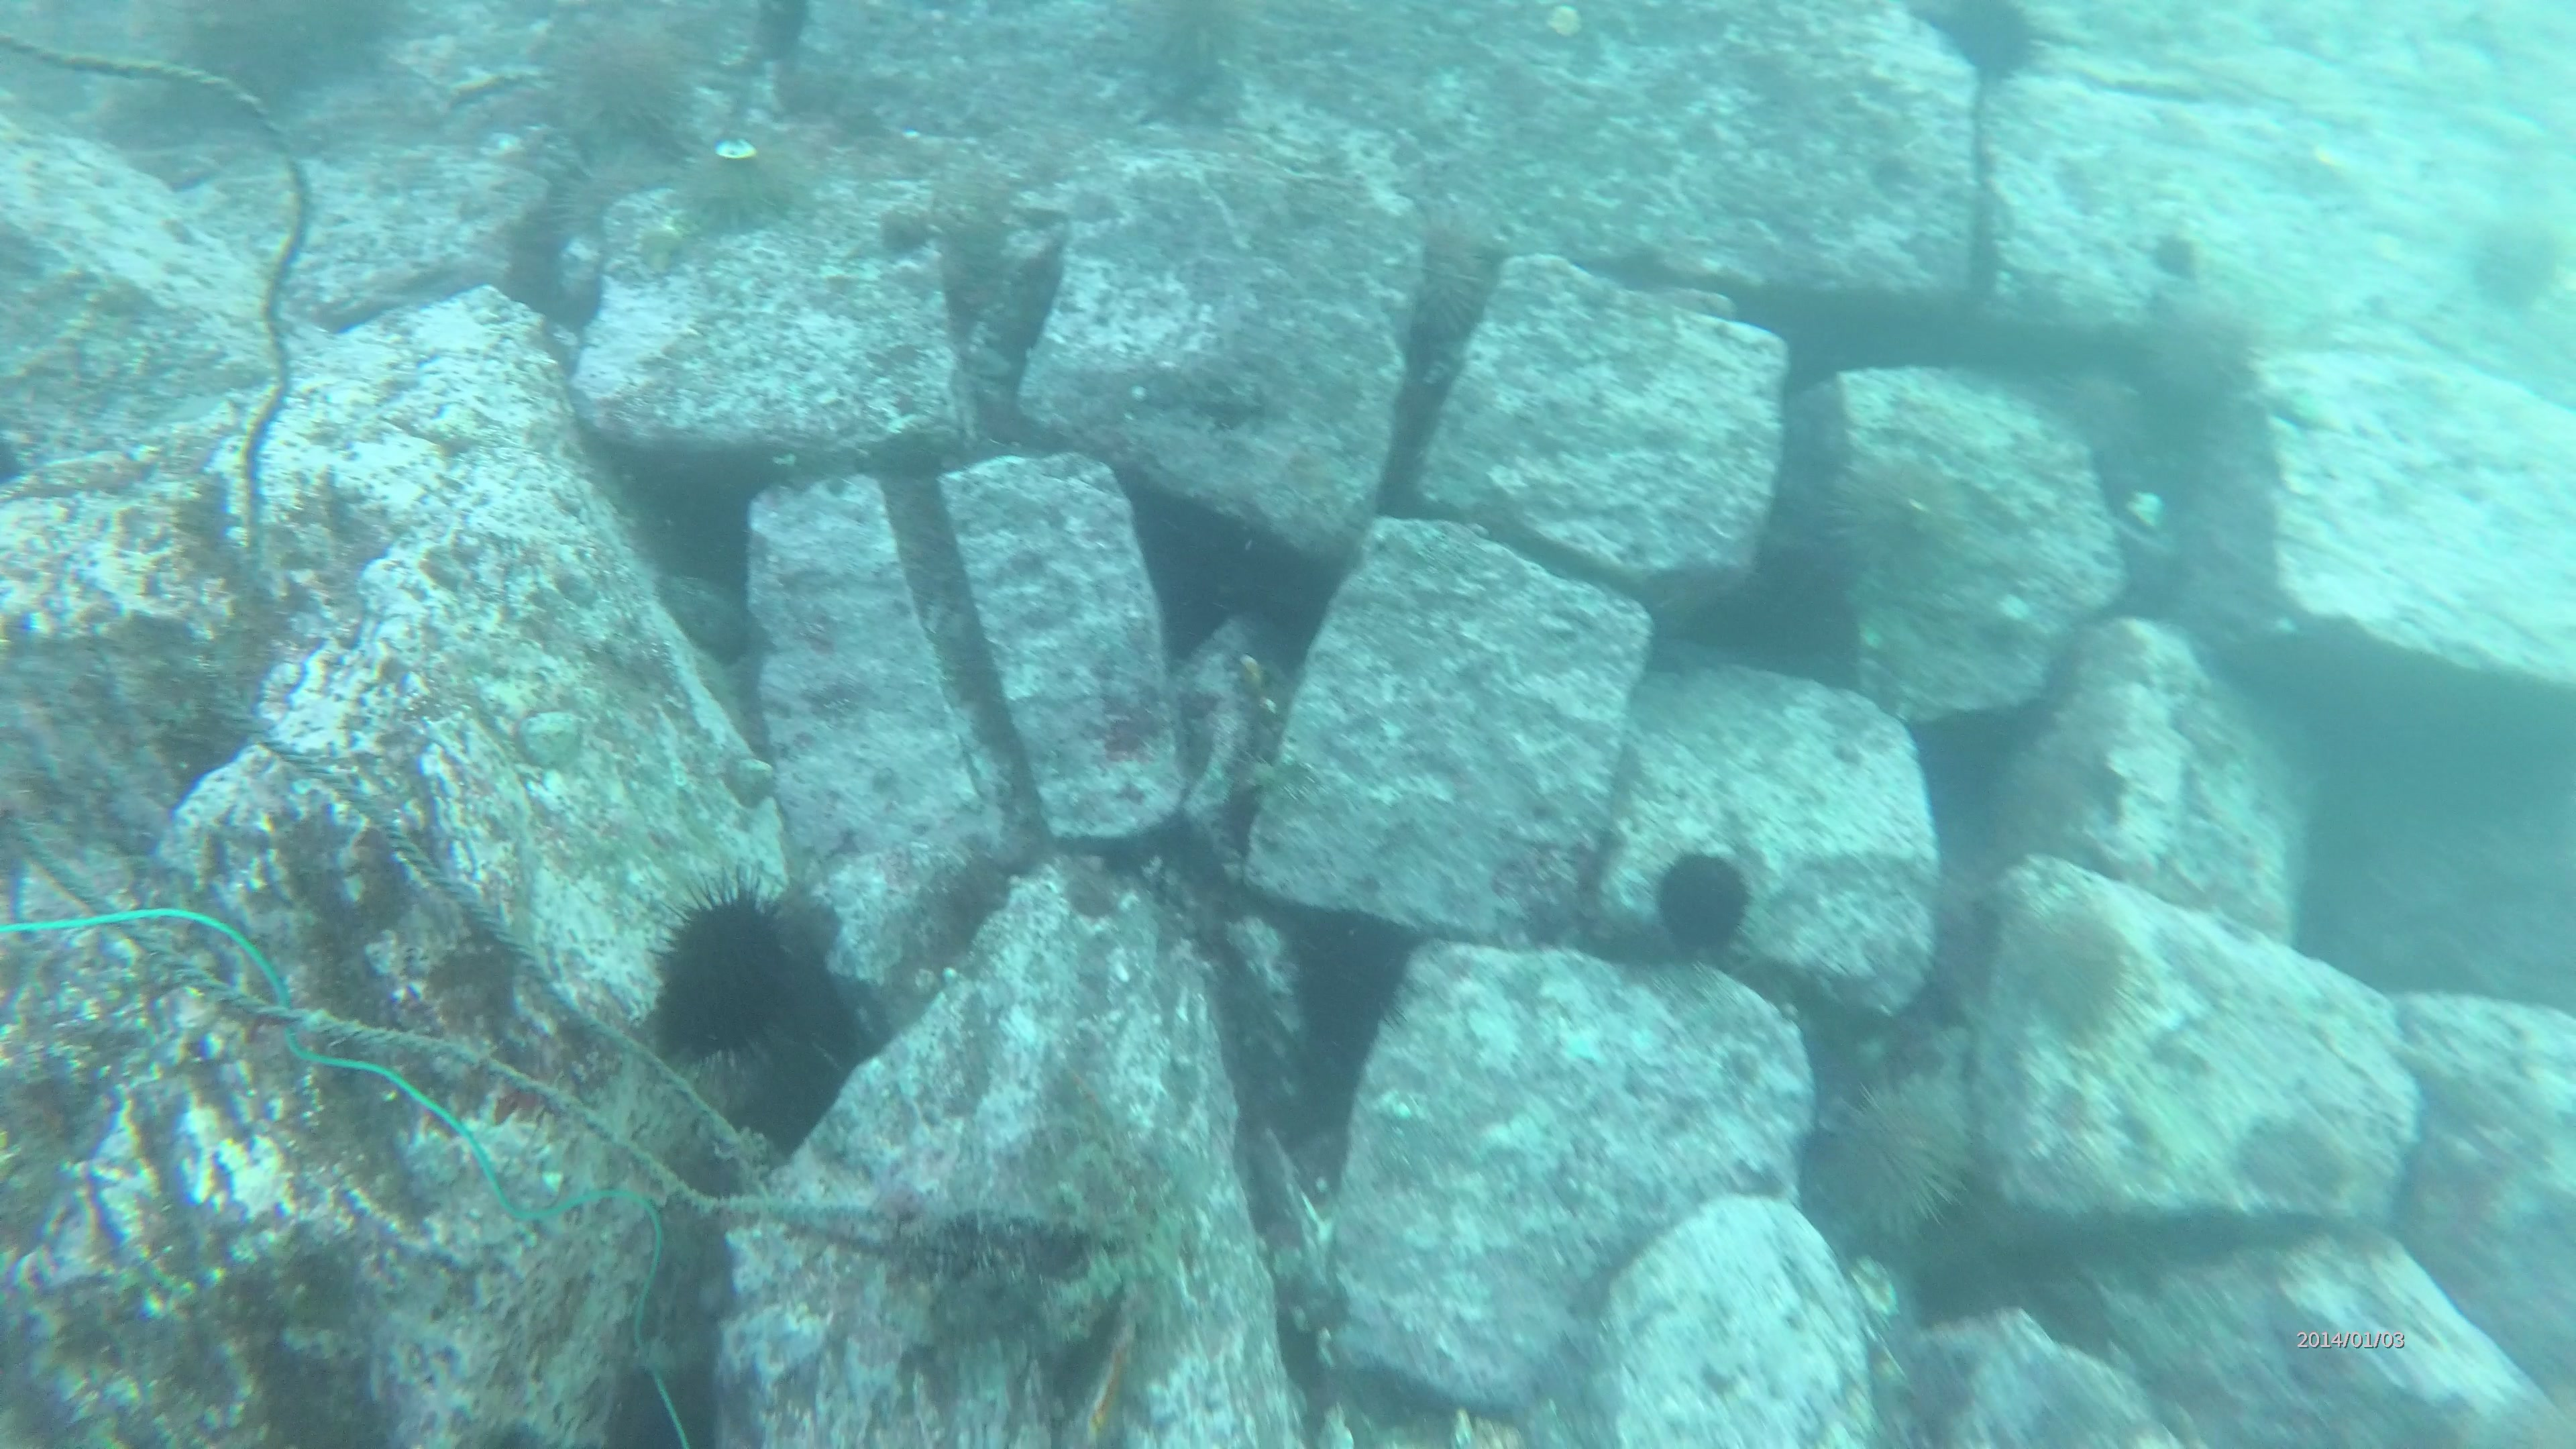echinus: (635, 878, 814, 1097), (1799, 1051, 1973, 1265), (541, 16, 699, 149), (1645, 839, 1766, 987), (686, 134, 810, 226)
